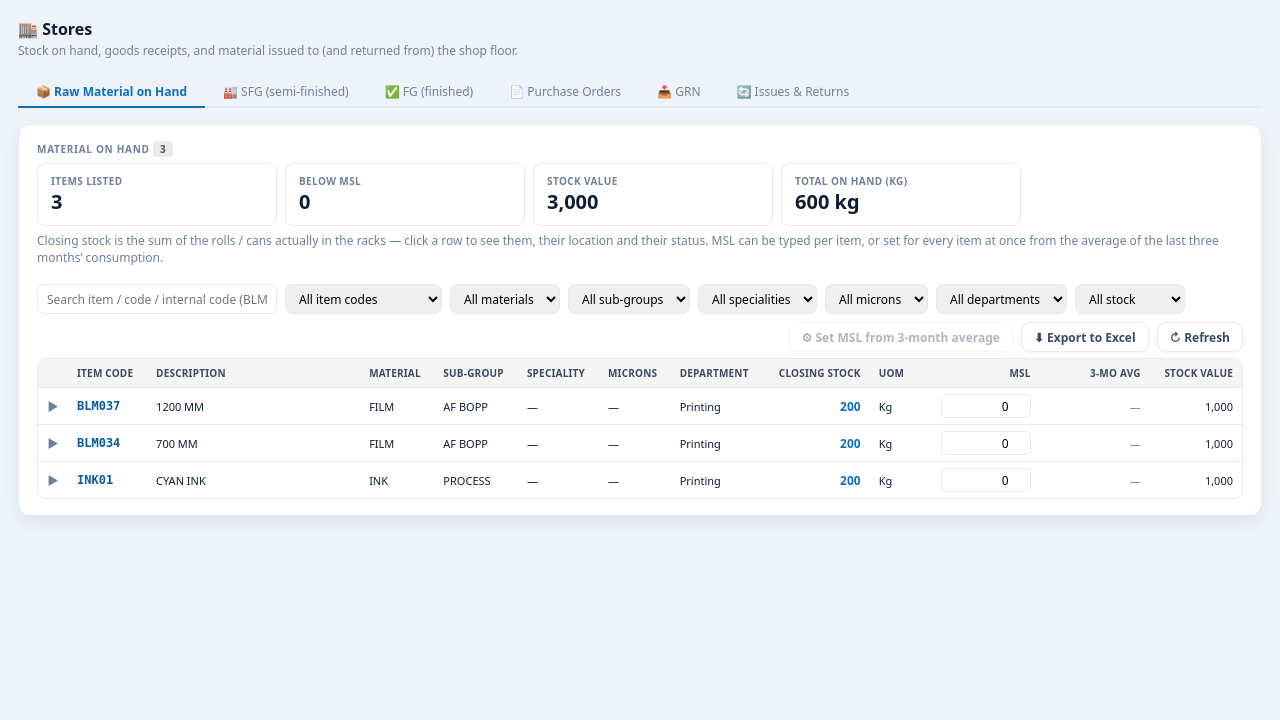
Stores — the on-hand board › shows the parent roll, the issue line and the return slip behind a split roll
Click the text "BLM034".
click(108, 443)  # box [68, 424, 147, 462]
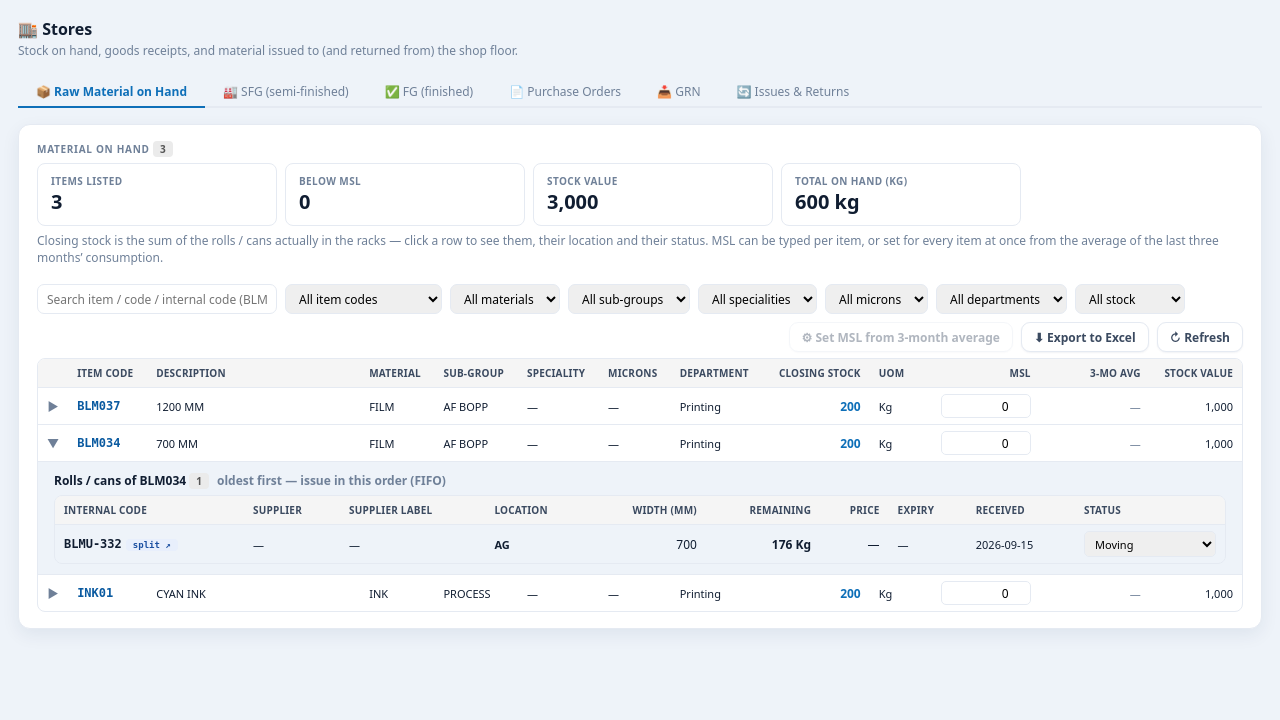
Click the button with aria-label "Where BLMU-332 came from".
click(152, 545)  # box [126, 539, 178, 551]
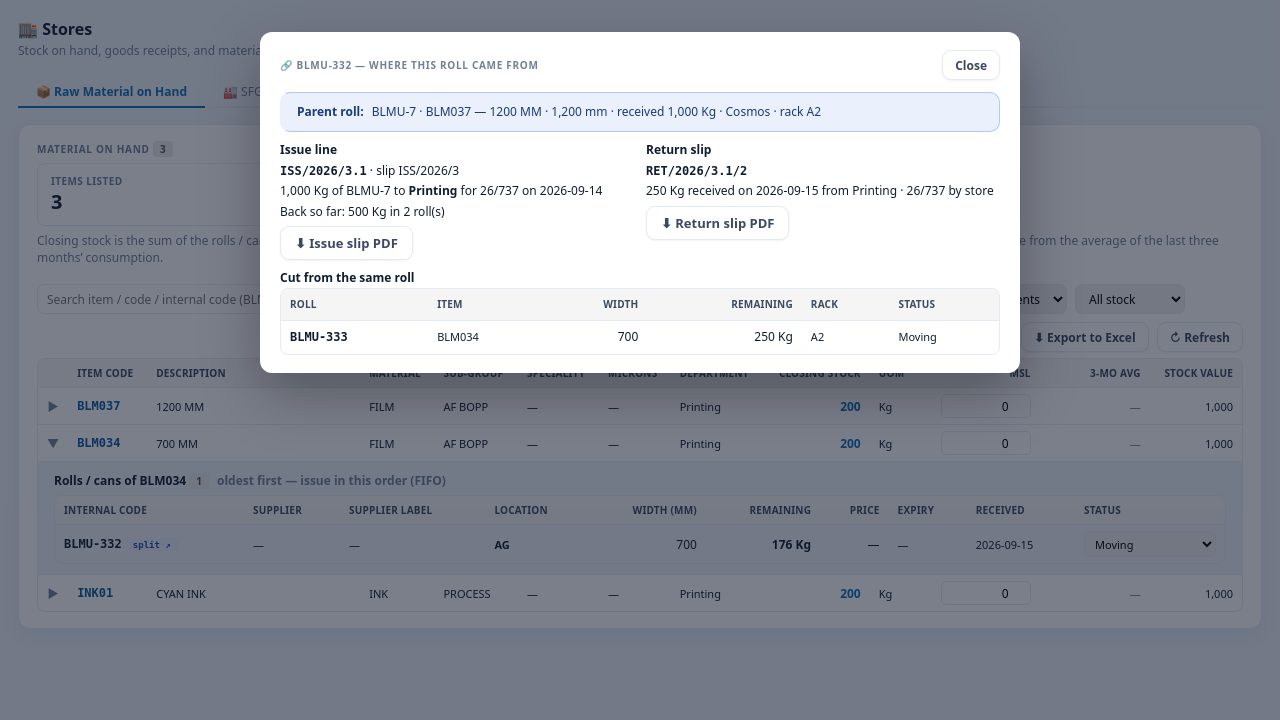
Expected: the text "BLMU-7 · BLM037" is shown, [280, 92, 1000, 132]
Expected: the text "ISS/2026/3.1" is shown, [280, 164, 367, 178]
Expected: the text "RET/2026/3.1/2" is shown, [646, 164, 747, 178]
